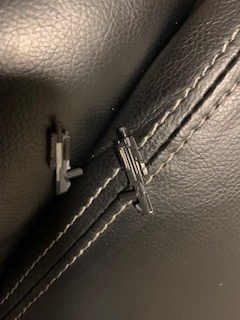rifle: (109, 126, 156, 216), (46, 119, 86, 196)
